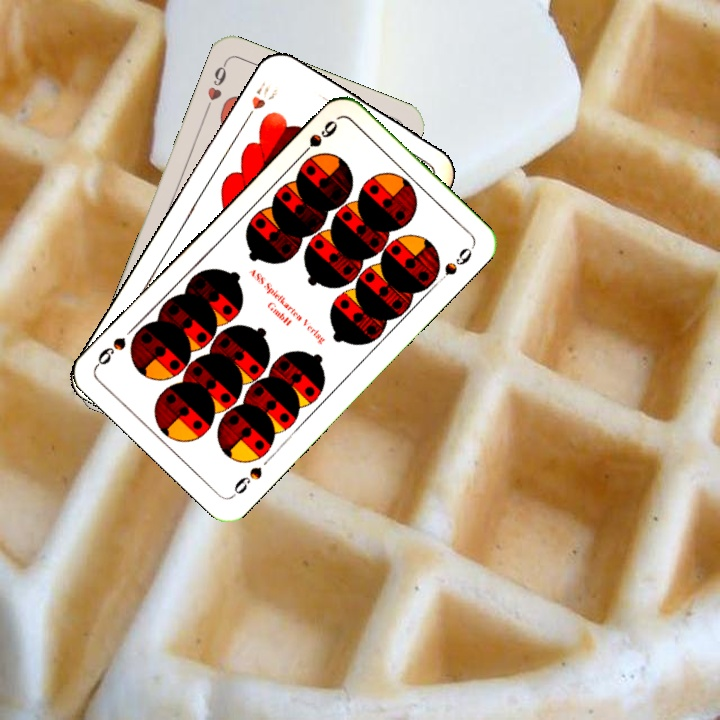H10: (239, 77, 281, 127)
H9: (201, 58, 230, 115)
S9: (294, 116, 341, 162), (227, 463, 265, 500)
